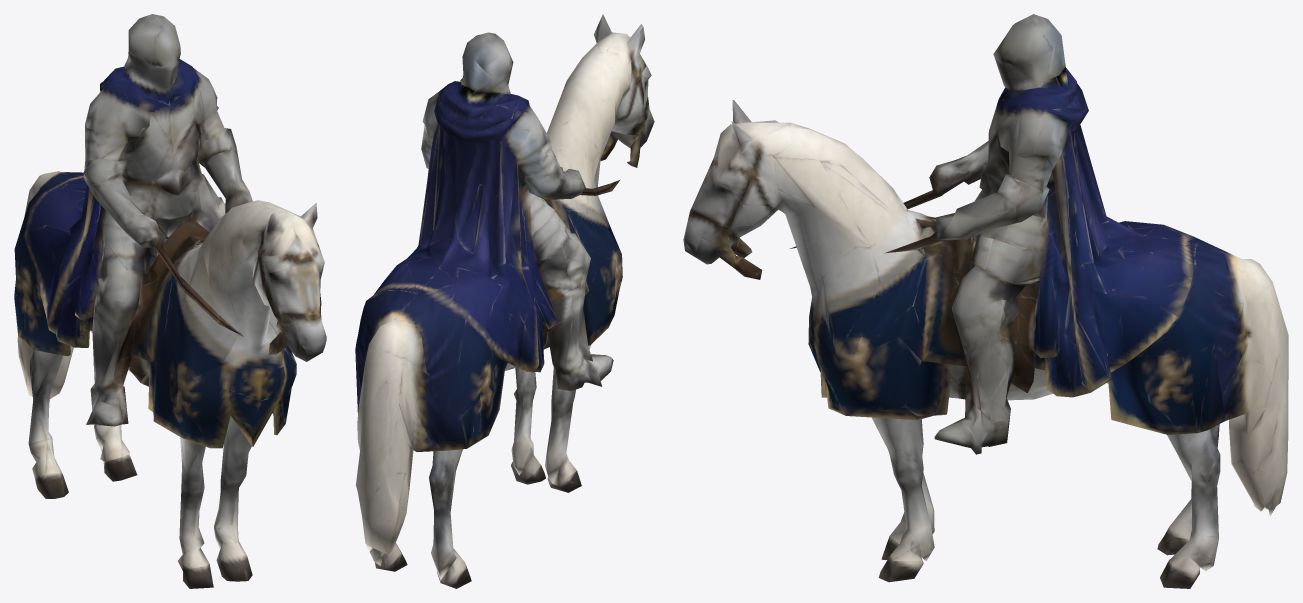
Rendered from hero.glb.
3 views of the same model, side by side, from view 1: azimuth 30°, elevation 25°; view 2: azimuth 150°, elevation 25°; view 3: azimuth 270°, elevation 25° (orthographic). The views are drawn at different scales.
Visible parts, largest first — view 1: Mesh_0; view 2: Mesh_0; view 3: Mesh_0.
Part boxes in pixels (<box>): Mesh_0: <box>14,14,326,588</box>; Mesh_0: <box>355,14,654,588</box>; Mesh_0: <box>683,14,1288,588</box>.
Bounding box in the file's own units: 0.8954 × 2.37 × 2.35.
Materials: 1 (1 with a texture image).
